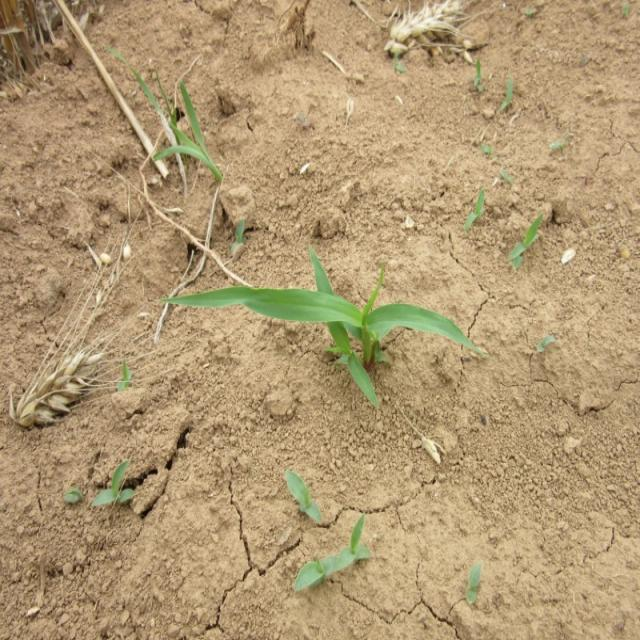bg: (166, 242, 486, 402)
